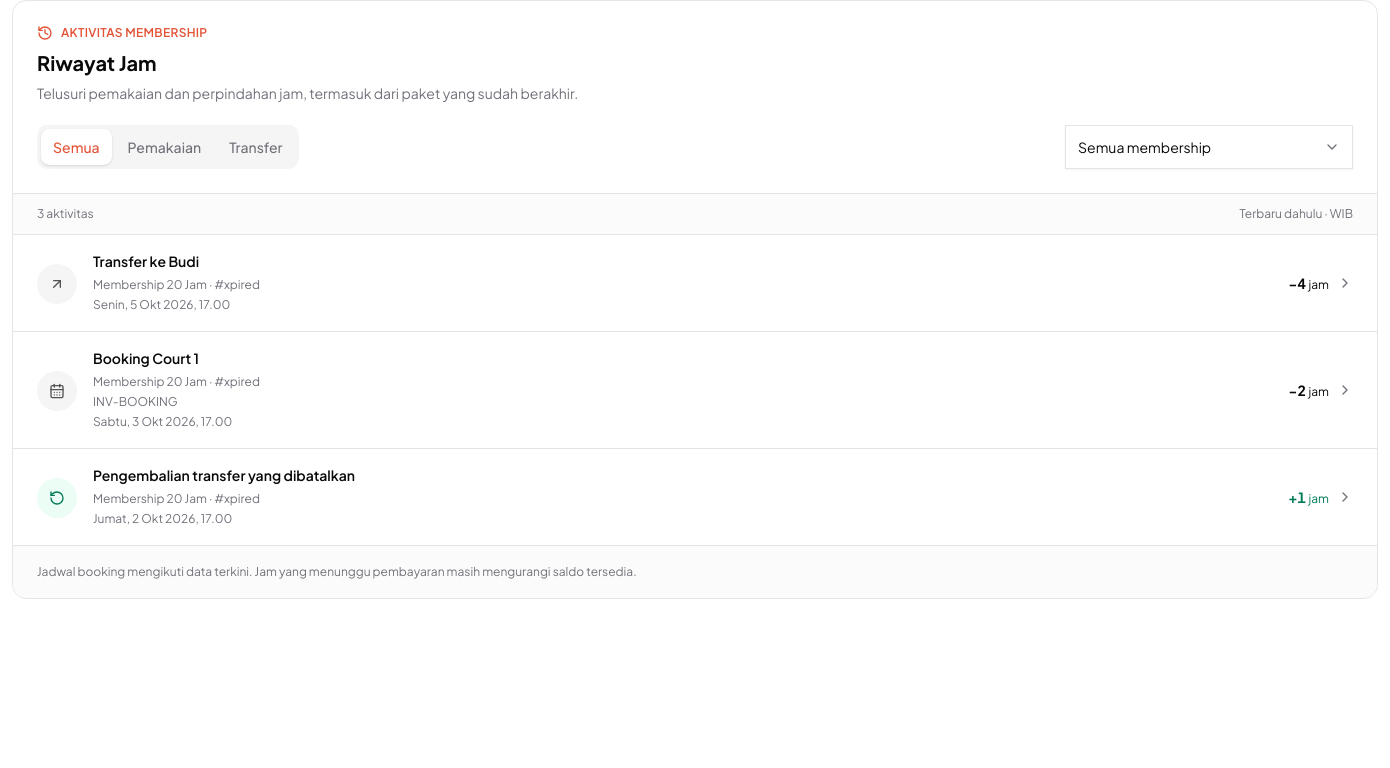
Scenario: membership hour history › filters usage and transfers including transfer reversals from expired packages
What coordinates should you click on to do the following:
click the button "Transfer"
I would click on:
 (256, 147)
Its box is [217, 129, 294, 165].
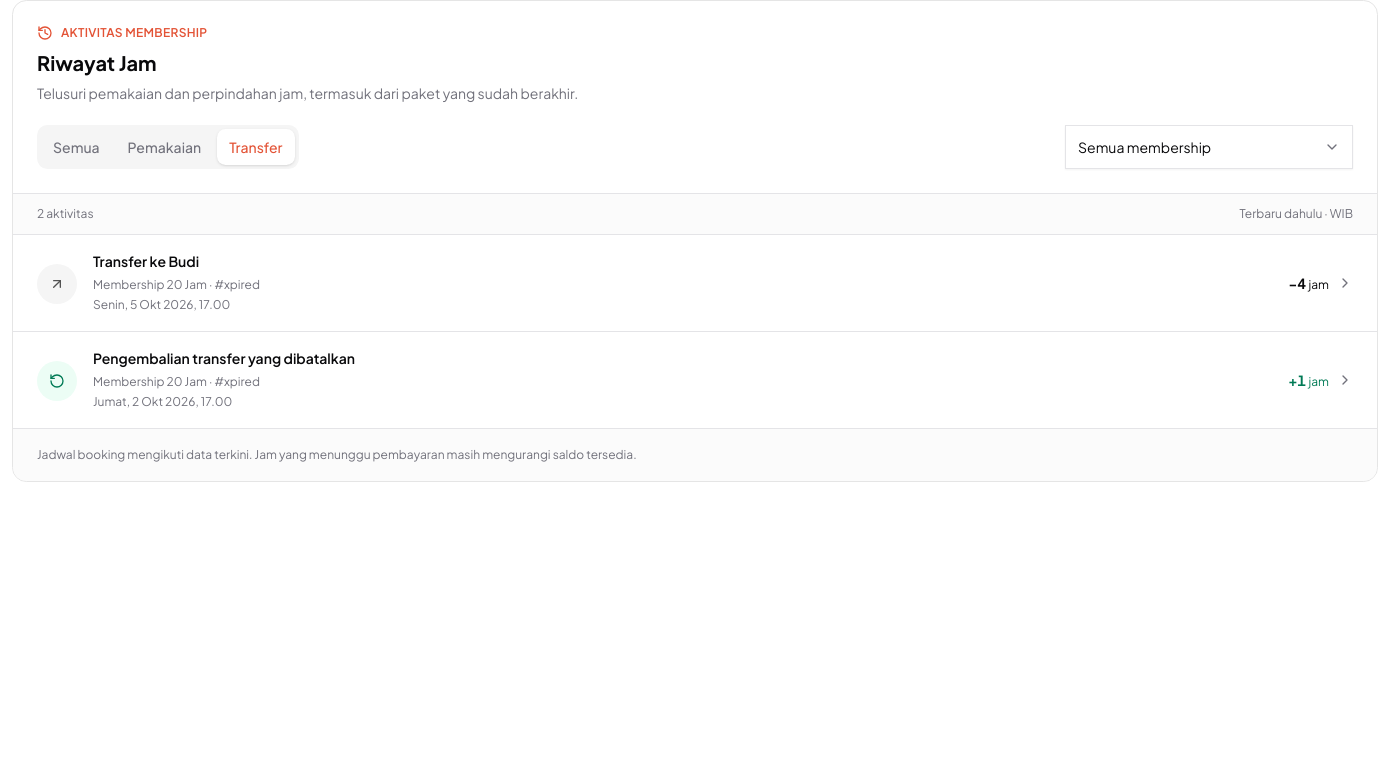
Expected: the text "Transfer ke Budi" is shown, [93, 252, 199, 270]
Expected: the button "Booking Court 1" is gone
What coordinates should you click on to do the following:
click the button "Pemakaian"
I would click on:
 (164, 147)
Its box is [116, 129, 213, 165].
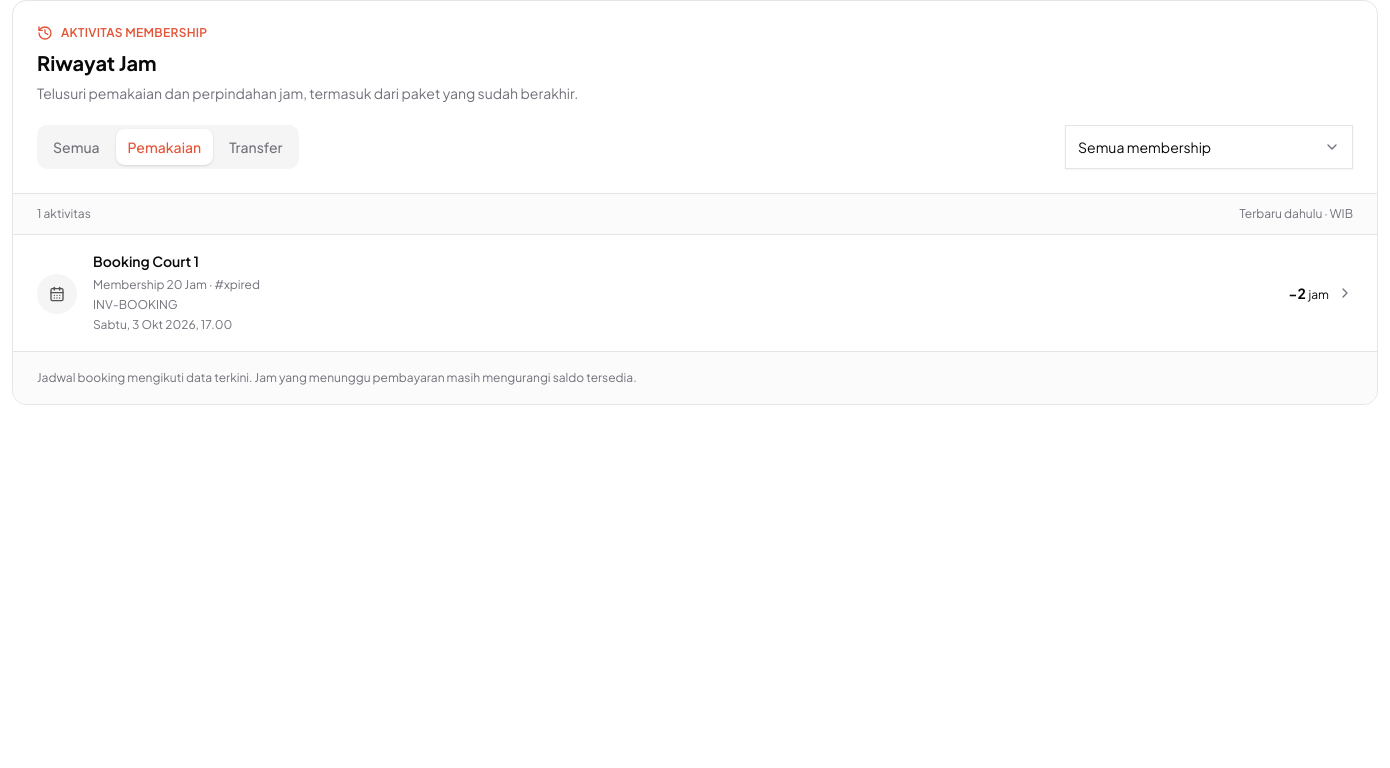
Expected: the text "Booking Court 1" is shown, [93, 252, 199, 270]
Expected: the button "Transfer ke Budi" is gone
